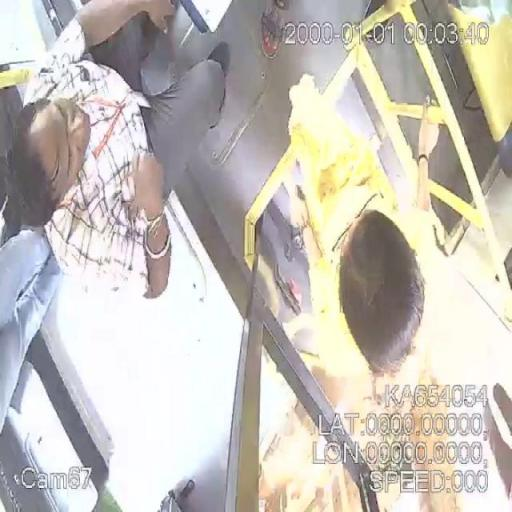persona: (0, 2, 230, 308), (276, 74, 440, 386)
